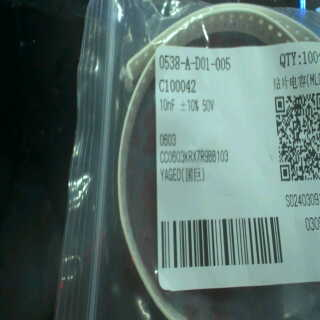10nF: (159, 95, 178, 115)
